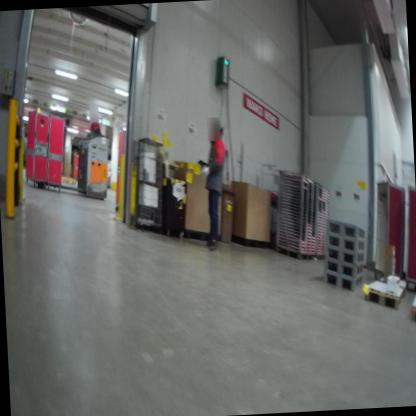pallet: (362, 276, 406, 316), (324, 223, 365, 258), (320, 267, 367, 294), (322, 242, 367, 269), (325, 253, 364, 283), (327, 215, 366, 244), (378, 268, 408, 295), (409, 287, 416, 324)
pallet_truck: (30, 128, 114, 202)
